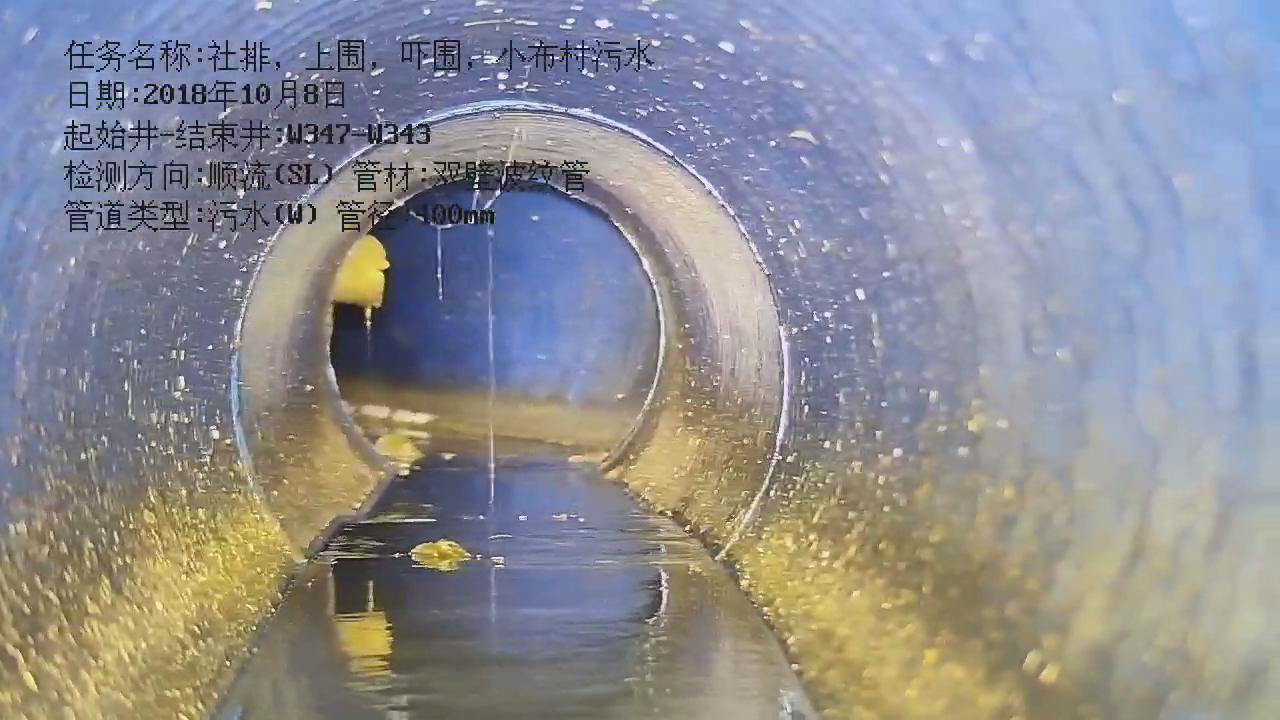CKTJ: (228, 99, 790, 560)
ZGAJ: (330, 232, 389, 326)
